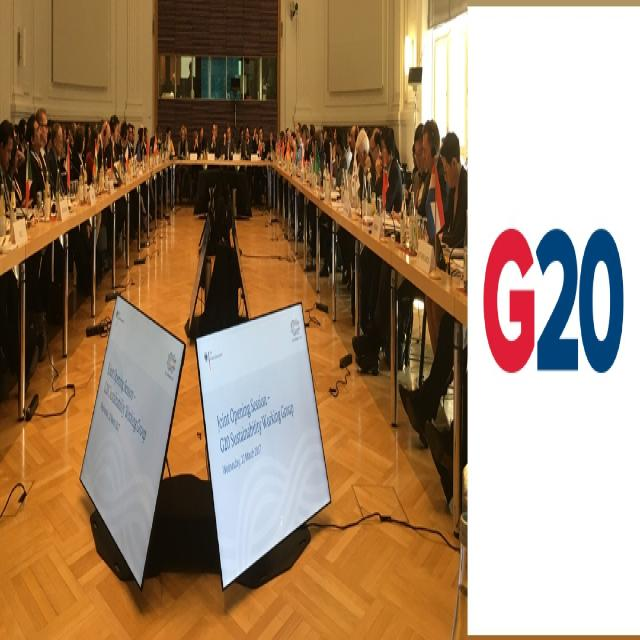body: (397, 128, 468, 451), (0, 118, 34, 385), (361, 123, 403, 328), (424, 344, 468, 506), (417, 117, 449, 232), (24, 112, 54, 210), (84, 125, 102, 282), (334, 126, 349, 288), (406, 122, 431, 219), (125, 116, 143, 250), (308, 126, 324, 255), (46, 120, 70, 202), (0, 136, 22, 219), (10, 119, 30, 204), (35, 104, 53, 198), (355, 125, 376, 203), (366, 125, 385, 208), (135, 126, 151, 220), (207, 118, 220, 205), (263, 124, 276, 206), (275, 128, 287, 213), (69, 125, 86, 182), (251, 123, 262, 208), (141, 123, 151, 213), (273, 126, 284, 202), (290, 130, 299, 219), (98, 118, 111, 176), (192, 128, 202, 197), (107, 114, 119, 168), (117, 118, 129, 165), (283, 125, 289, 218), (408, 139, 416, 205), (222, 122, 235, 162), (241, 122, 253, 163), (185, 58, 197, 96), (63, 120, 77, 152), (45, 117, 55, 160), (149, 122, 162, 154), (294, 118, 303, 164), (197, 123, 205, 173), (255, 125, 267, 158), (306, 122, 317, 158), (322, 134, 332, 173), (344, 128, 353, 171), (163, 125, 175, 157), (177, 125, 189, 157), (80, 125, 92, 154), (302, 125, 310, 163), (322, 123, 336, 139), (134, 126, 140, 156), (439, 131, 445, 154), (240, 123, 244, 147), (252, 126, 258, 142)
